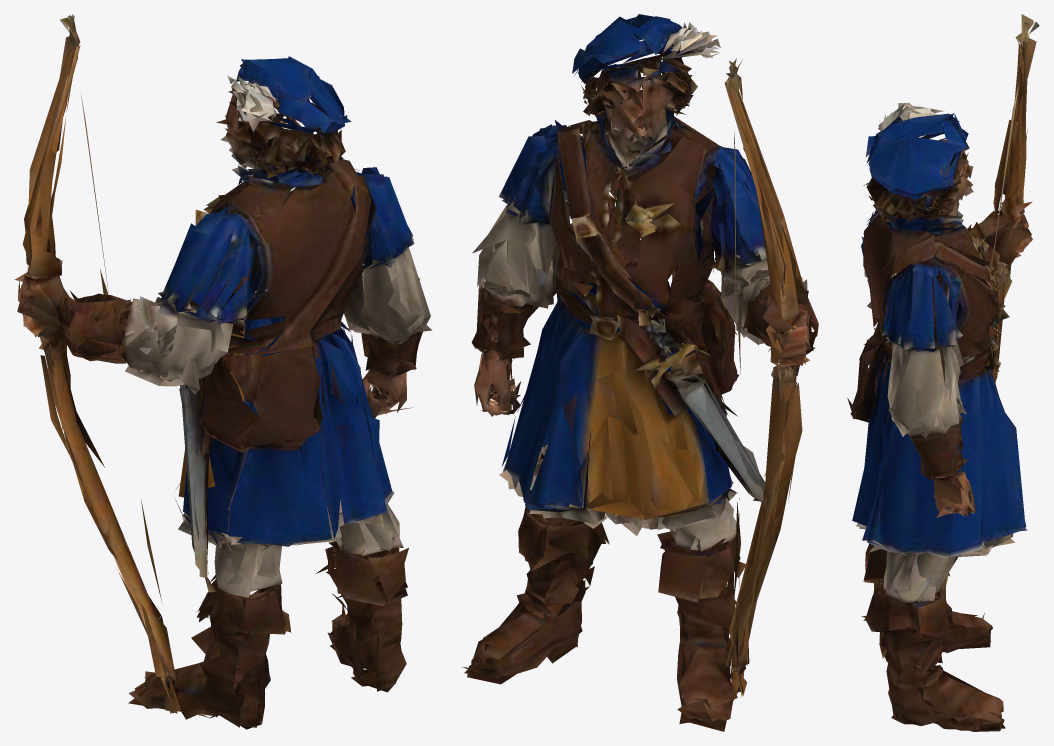
File: kingdom-archers.lod1.glb
The picture shows the model from 3 angles, left to right: view 1: azimuth 30°, elevation 25°; view 2: azimuth 150°, elevation 25°; view 3: azimuth 270°, elevation 25°; orthographic projection. The views are drawn at different scales.
Parts seen in each view (by area): view 1: imperial-archers; view 2: imperial-archers; view 3: imperial-archers.
Part boxes in pixels (x1,y1,x2,y2): imperial-archers: (14,14,432,729); imperial-archers: (462,14,818,731); imperial-archers: (847,14,1039,731).
Size of the model in its own units: 0.2789 by 0.5012 by 0.1455.
Materials: 1 (1 with a texture image).
